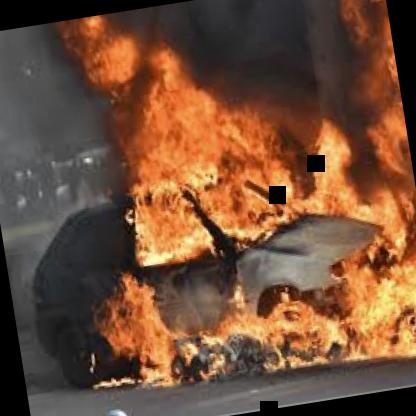fire: (0, 10, 416, 410)
